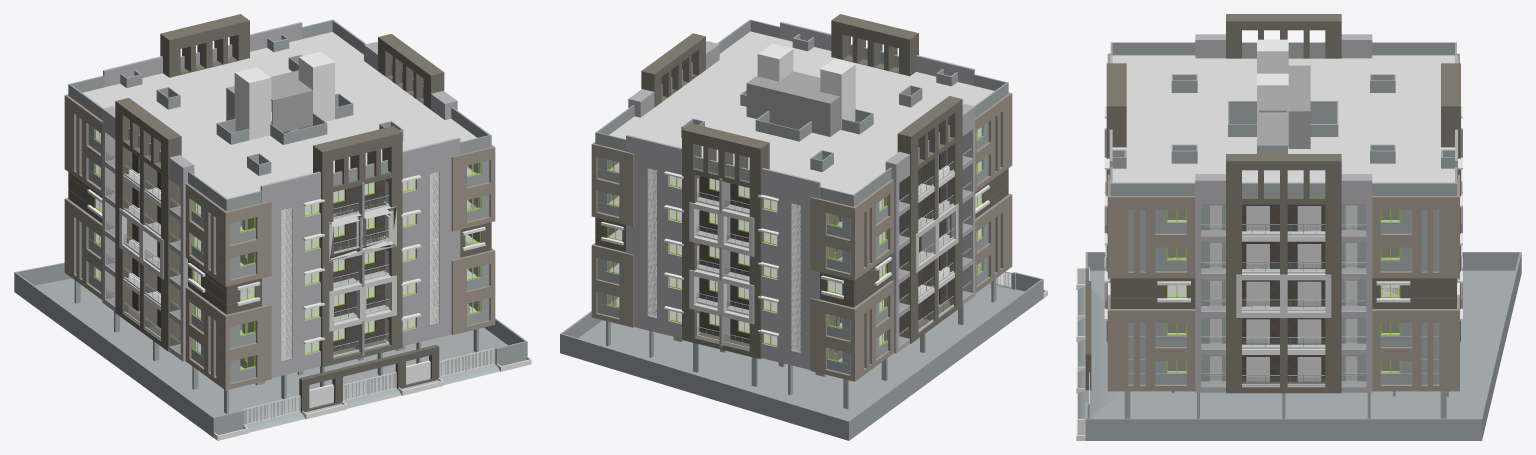
3 views of the same model, side by side, from view 1: azimuth 30°, elevation 25°; view 2: azimuth 150°, elevation 25°; view 3: azimuth 270°, elevation 25° (orthographic). The views are drawn at different scales.
Parts seen in each view (by area): view 1: WALL.01, AL00E2 Elevations.01, AL201 Concrete Structure.01, slab.01, FURN-BACK.01, COLUMN.01, SLOP.01, 3.01, porch.01, wnn.01, COLOUR.01, GLASS.01 (+9 smaller); view 2: WALL.01, AL00E2 Elevations.01, AL201 Concrete Structure.01, slab.01, FURN-BACK.01, SLOP.01, 3.01, stair.01, porch.01, wnn.01, GLASS.01, COLUMN.01 (+6 smaller); view 3: WALL.01, slab.01, FURN-BACK.01, AL00E2 Elevations.01, AL201 Concrete Structure.01, door.01, COLUMN.01, porch.01, SLOP.01, GLASS.01, 3.01, ACCESSESORIES.01 (+7 smaller).
Part boxes in pixels (x1,y1,x2,y2): WALL.01: (14, 19, 527, 437); AL00E2 Elevations.01: (115, 14, 444, 367); AL201 Concrete Structure.01: (102, 22, 460, 378); slab.01: (82, 32, 477, 369); FURN-BACK.01: (64, 94, 495, 390); COLUMN.01: (68, 172, 491, 412); SLOP.01: (124, 51, 389, 357); 3.01: (119, 204, 396, 331); porch.01: (132, 60, 423, 351); wnn.01: (96, 130, 479, 368); COLOUR.01: (243, 175, 495, 425); GLASS.01: (124, 167, 389, 356); WALL.01: (560, 19, 1043, 440); AL00E2 Elevations.01: (641, 14, 962, 358); AL201 Concrete Structure.01: (626, 22, 975, 369); slab.01: (608, 31, 994, 361); FURN-BACK.01: (591, 92, 1012, 381); SLOP.01: (648, 43, 953, 352); 3.01: (689, 197, 958, 324); stair.01: (746, 71, 839, 136); porch.01: (672, 59, 946, 343); wnn.01: (608, 128, 981, 360); GLASS.01: (696, 163, 953, 348); COLUMN.01: (595, 168, 1008, 307); WALL.01: (1077, 42, 1521, 440); slab.01: (1112, 55, 1454, 372); FURN-BACK.01: (1107, 53, 1459, 391); AL00E2 Elevations.01: (1106, 14, 1460, 393); AL201 Concrete Structure.01: (1109, 34, 1457, 392); door.01: (1210, 205, 1357, 381); COLUMN.01: (1085, 278, 1456, 390); porch.01: (1242, 204, 1325, 382); SLOP.01: (1242, 39, 1325, 386); GLASS.01: (1242, 226, 1324, 385); 3.01: (1105, 169, 1462, 317); ACCESSESORIES.01: (1201, 226, 1365, 386).
Size of the model in its own units: 1.2 by 0.984 by 1.35.
21 materials, 1 textured.
